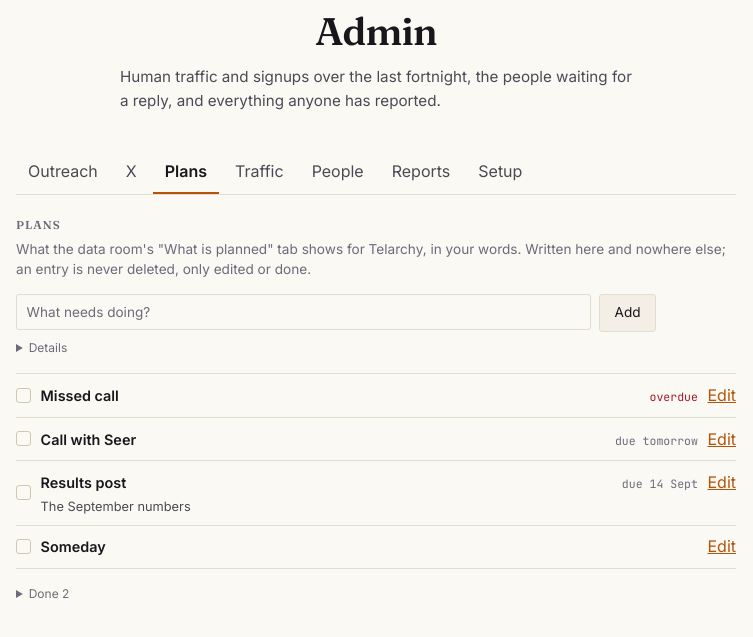
the Plans card on /admin › a failed add says why and keeps what was typed
Expected: the text "Call with Seer" is shown, x1=41 y1=431 x2=136 y2=448
Type "Keep me" into the field with placeholder "What needs doing?" at [304, 312], box x1=16 y1=294 x2=591 y2=330
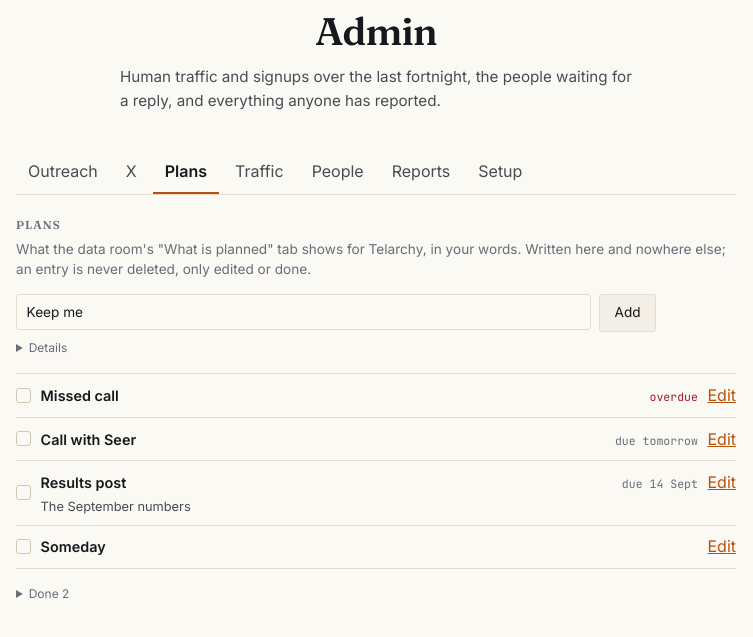
Click the button "Add" at [628, 313], box x1=599 y1=294 x2=656 y2=332
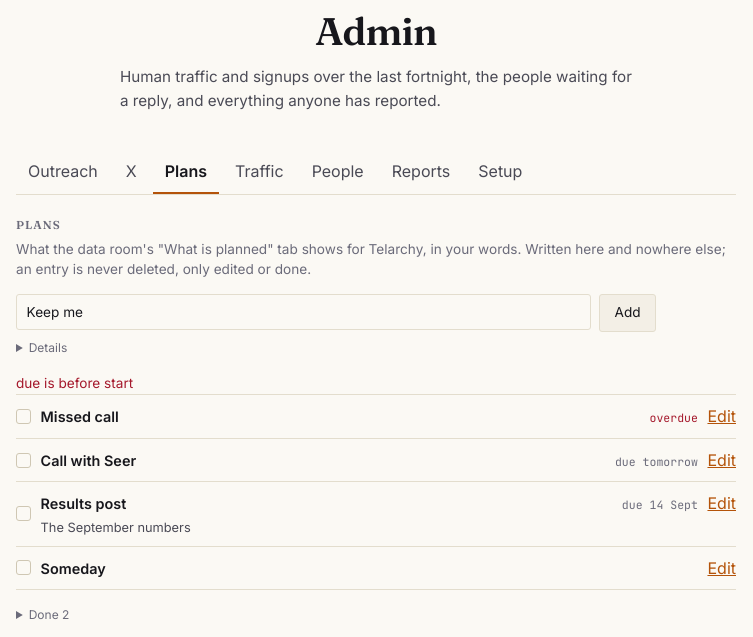
Expected: the text "due is before start" is shown, x1=16 y1=375 x2=133 y2=391
